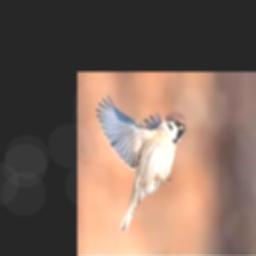Sparrow: (95, 94, 186, 229)
